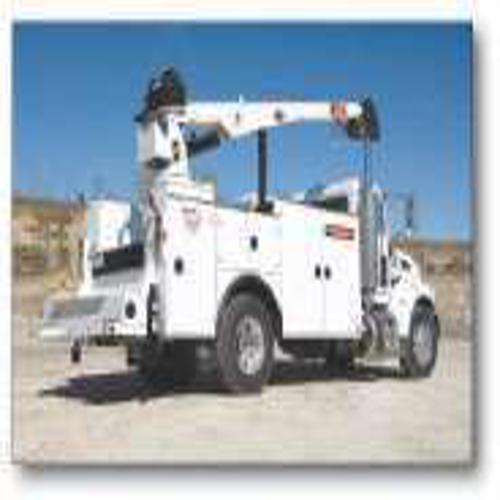con_eq: (48, 55, 442, 400)
